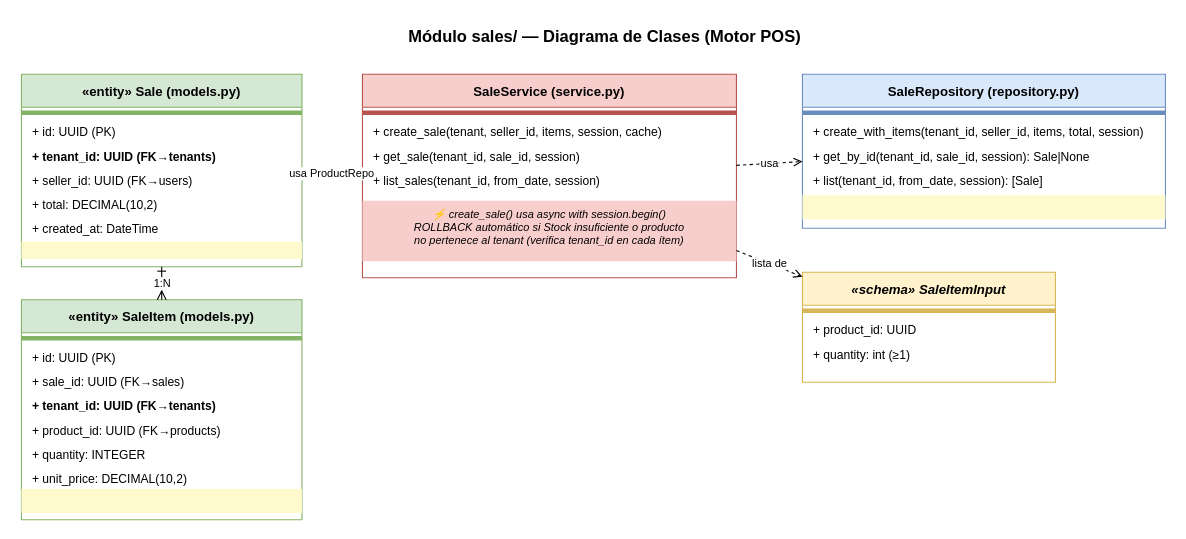
Image size: 1186x539. Some labels were removed from this diagram. The centre of each missing label's shape, as x and y in pixels:
1:N → SaleItem: the point at 161,249
tenant_id duplicado para integridad de aislamiento: the point at 161,500
WHERE tenant_id=:tid en todas las queries: the point at 983,207
